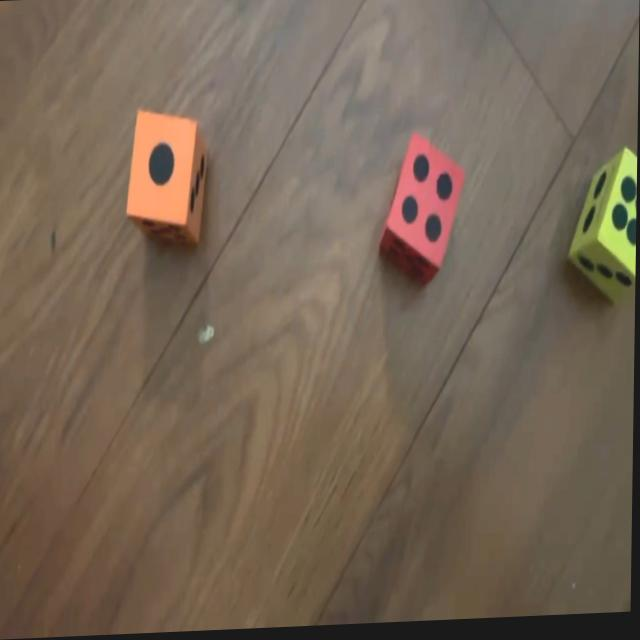red_block: (377, 135, 468, 289)
